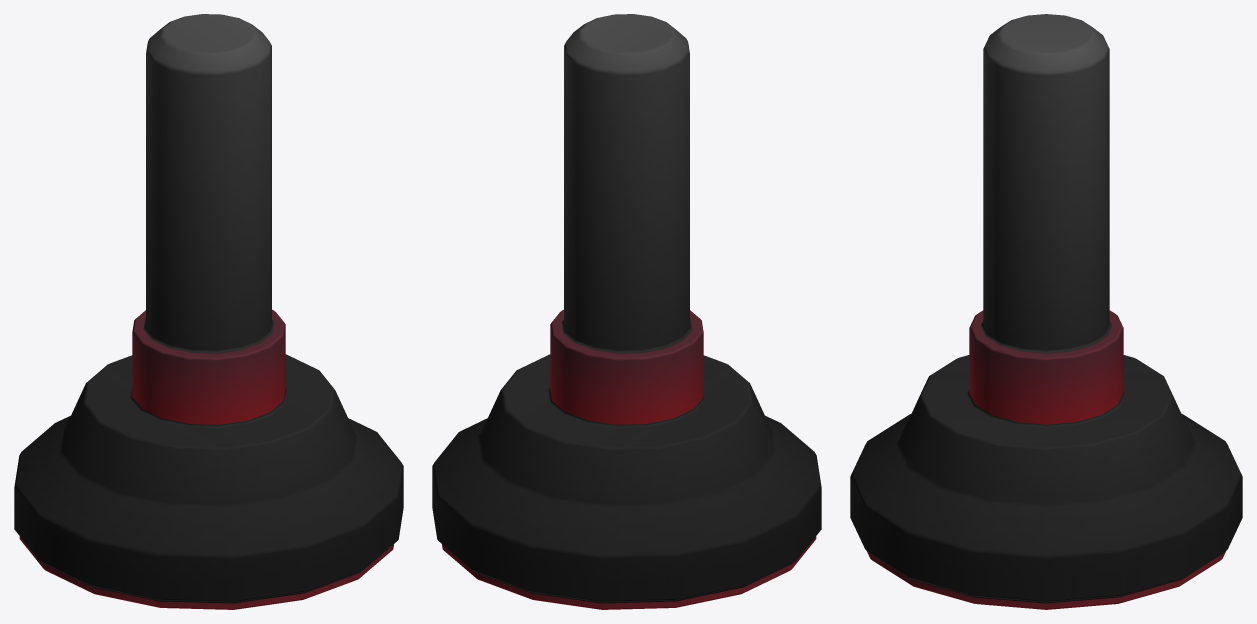
File: SM_Stamp_Denied.fbx
3 views of the same model, side by side, from view 1: azimuth 30°, elevation 25°; view 2: azimuth 150°, elevation 25°; view 3: azimuth 270°, elevation 25° (orthographic).
Parts seen in each view (by area): view 1: Stamp_Denied; view 2: Stamp_Denied; view 3: Stamp_Denied.
Boxes of the visible parts, left/top/right/bottom form: Stamp_Denied: left=14, top=14, right=403, bottom=609; Stamp_Denied: left=432, top=14, right=821, bottom=609; Stamp_Denied: left=850, top=14, right=1242, bottom=609.
Size of the model in its own units: 50 by 69.98 by 50.
